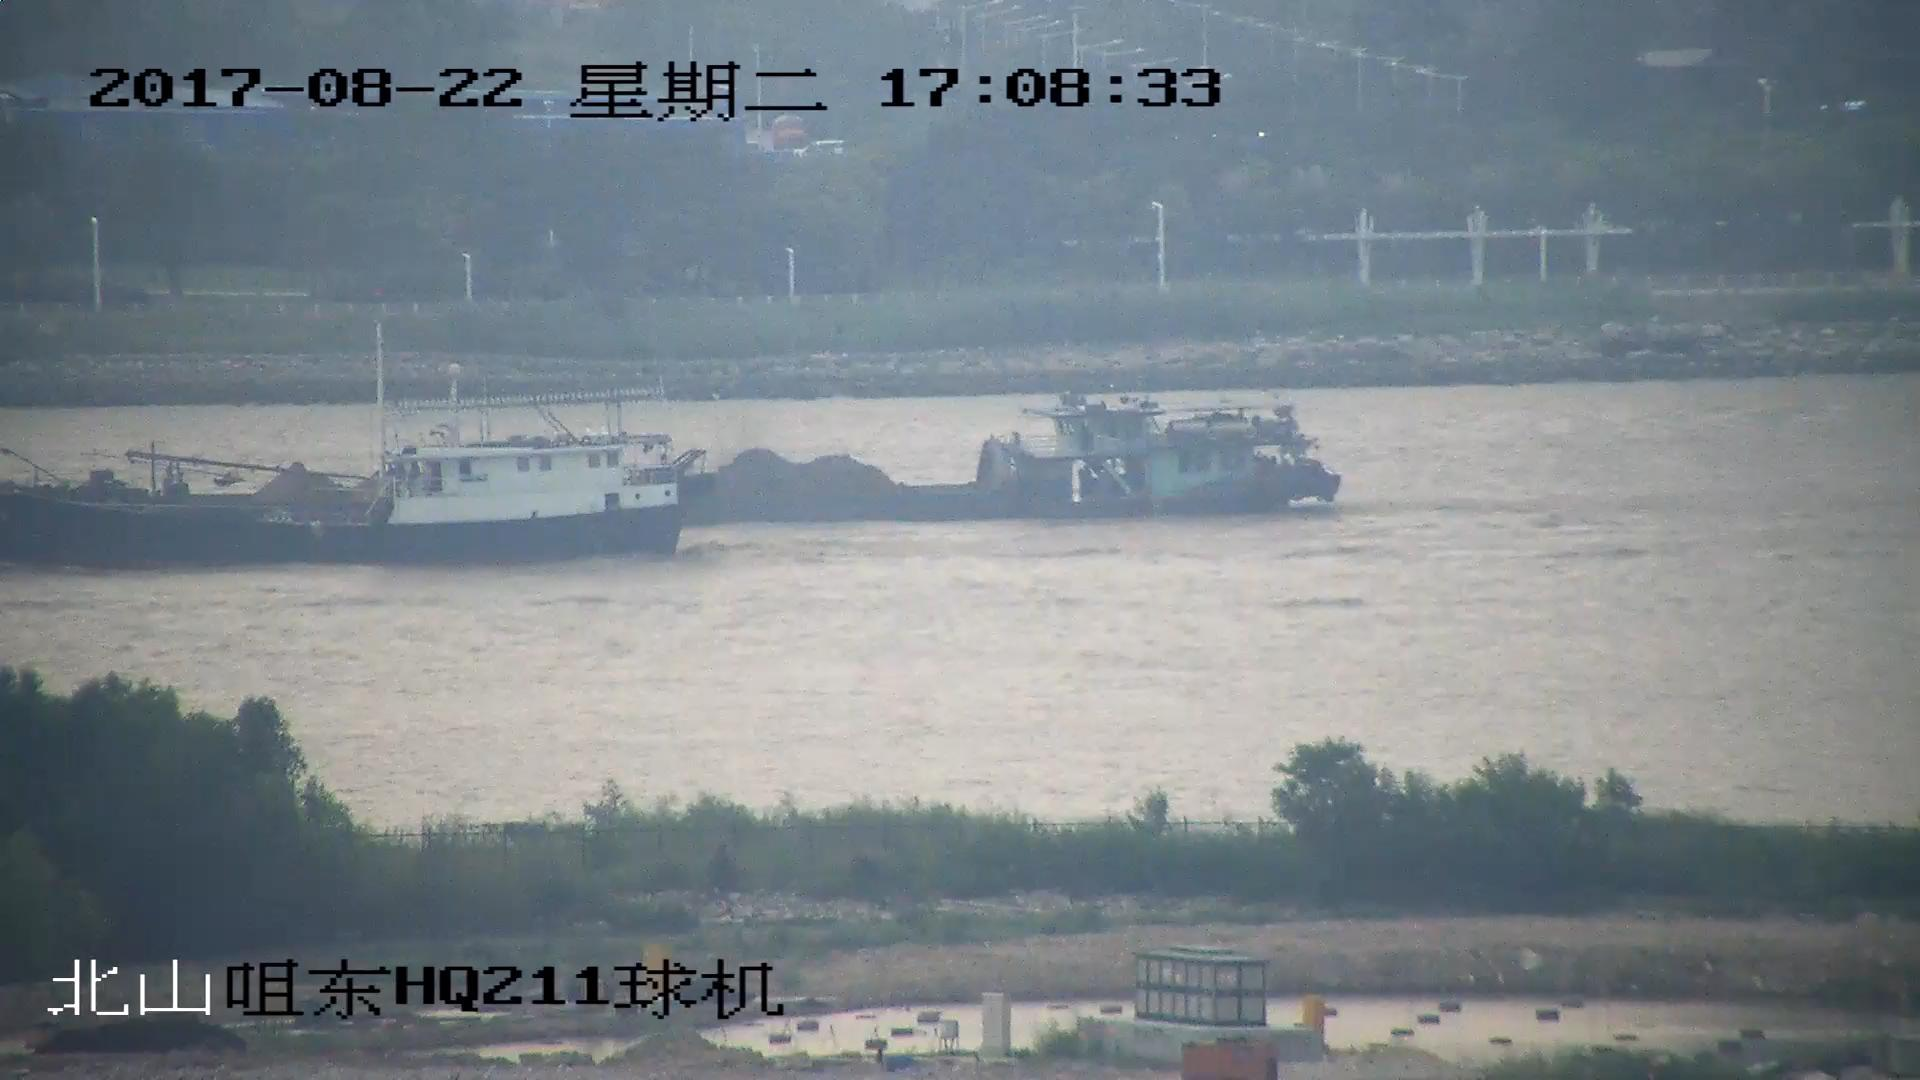Ship: (3, 396, 1342, 525), (3, 371, 686, 570)
